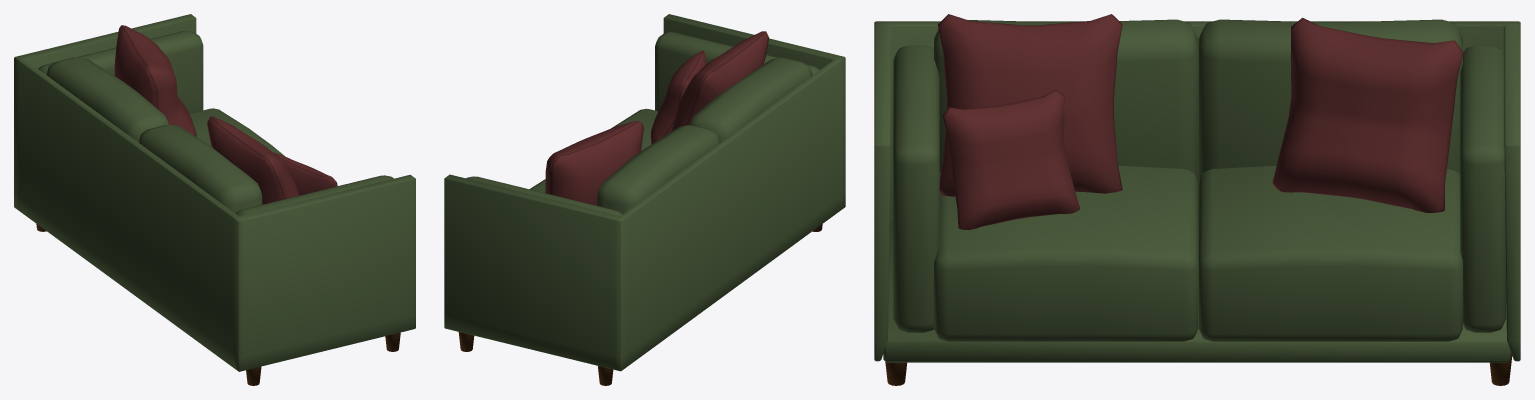
File: sofa_modular_low_poly_com_almofadas.glb
The picture shows the model from 3 angles, left to right: view 1: azimuth 30°, elevation 25°; view 2: azimuth 150°, elevation 25°; view 3: azimuth 270°, elevation 25°; orthographic projection. The views are drawn at different scales.
Parts seen in each view (by area): view 1: Cube; view 2: Cube; view 3: Cube.
Boxes of the visible parts, x1,y1,x2,y2 form: Cube: (14,14,415,385); Cube: (444,14,845,385); Cube: (874,14,1520,385).
Size of the model in its own units: 8.45 by 9 by 18.01.
Materials: 4 (4 with a texture image).
